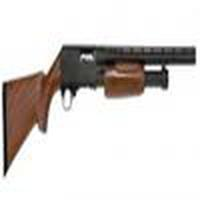gun: (3, 43, 200, 176)
